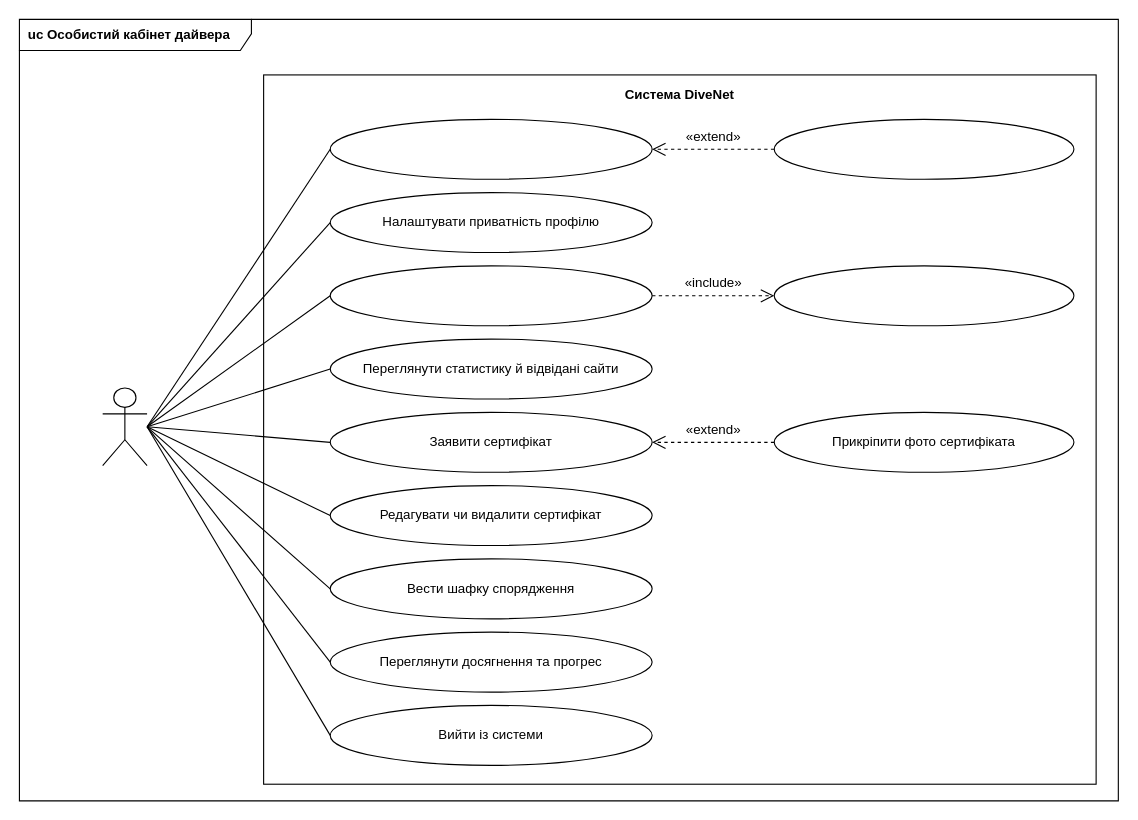
Image size: 1138x820. Some labels were removed from this diagram. Here are the shapes that lost their labels. From the top down, the centre of each, then its label:
At point 490,148: "Редагувати профіль".
At point 923,148: "Завантажити аватар".
At point 490,295: "Вести журнал занурень".
At point 923,295: "Нарахувати досягнення за занурення".
At point 124,426: "Дайвер".
